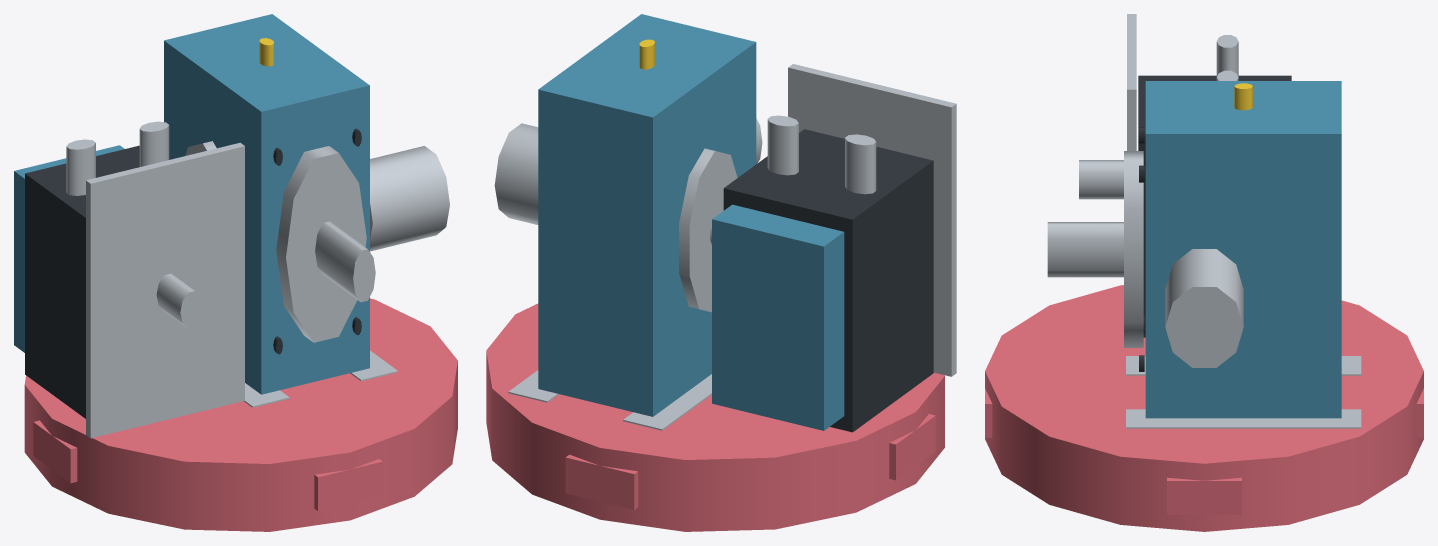
The picture shows the model from 3 angles, left to right: view 1: azimuth 30°, elevation 25°; view 2: azimuth 150°, elevation 25°; view 3: azimuth 270°, elevation 25°; orthographic projection. The views are drawn at different scales.
Visible parts, largest first — view 1: visualRotor, g1, g0002, g0, g3, g0001, g4, g3001, g2, g4001, g5001, g2001 (+1 smaller); view 2: g0002, visualRotor, g0, g3001, g1, g5, g0001, g5001, g4001, g1001, g2001; view 3: visualRotor, g0002, g0001, g4, g3, g2001, g0, g2, g1, g4001, g1001.
Boxes of the visible parts, box(x1,y1,x2,y2) form: visualRotor: box(24, 298, 457, 531); g1: box(86, 142, 244, 438); g0002: box(164, 14, 369, 394); g0: box(25, 145, 139, 418); g3: box(276, 146, 366, 342); g0001: box(370, 146, 449, 251); g4: box(315, 221, 375, 302); g3001: box(14, 145, 124, 352); g2: box(156, 273, 202, 328); g4001: box(66, 139, 95, 195); g5001: box(139, 121, 169, 166); g2001: box(350, 350, 397, 381); g0002: box(538, 14, 756, 416); visualRotor: box(486, 303, 944, 531); g0: box(723, 129, 933, 432); g3001: box(712, 204, 844, 430); g1: box(788, 64, 956, 376); g5: box(679, 148, 737, 312); g0001: box(494, 123, 538, 224); g5001: box(767, 115, 798, 175); g4001: box(845, 134, 876, 194); g1001: box(623, 374, 711, 430); g2001: box(508, 370, 558, 402); visualRotor: box(985, 285, 1423, 531); g0002: box(1145, 81, 1341, 418); g0001: box(1165, 249, 1243, 367); g4: box(1047, 222, 1123, 277); g3: box(1124, 151, 1143, 347); g2001: box(1126, 409, 1361, 428); g0: box(1138, 75, 1291, 337); g2: box(1079, 160, 1123, 199); g1: box(1127, 14, 1136, 150); g4001: box(1216, 35, 1238, 76); g1001: box(1126, 356, 1361, 375).
Size of the model in its own units: 0.7 by 0.66 by 0.7.
